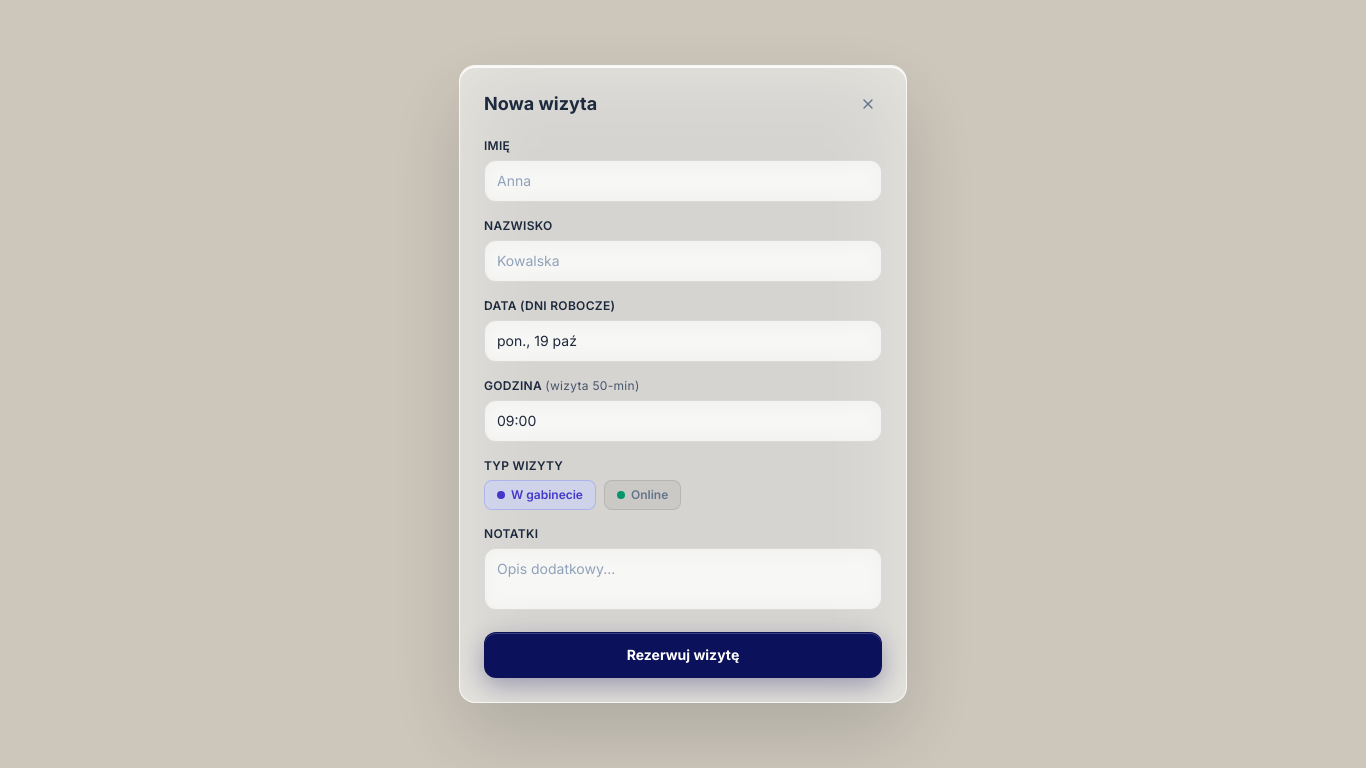
Scenario: AddTaskModal › name validation › requires a first name when only the last name is filled
In the field labelled "Nazwisko": (683, 261) [484,240,882,282], type "Kowalski"
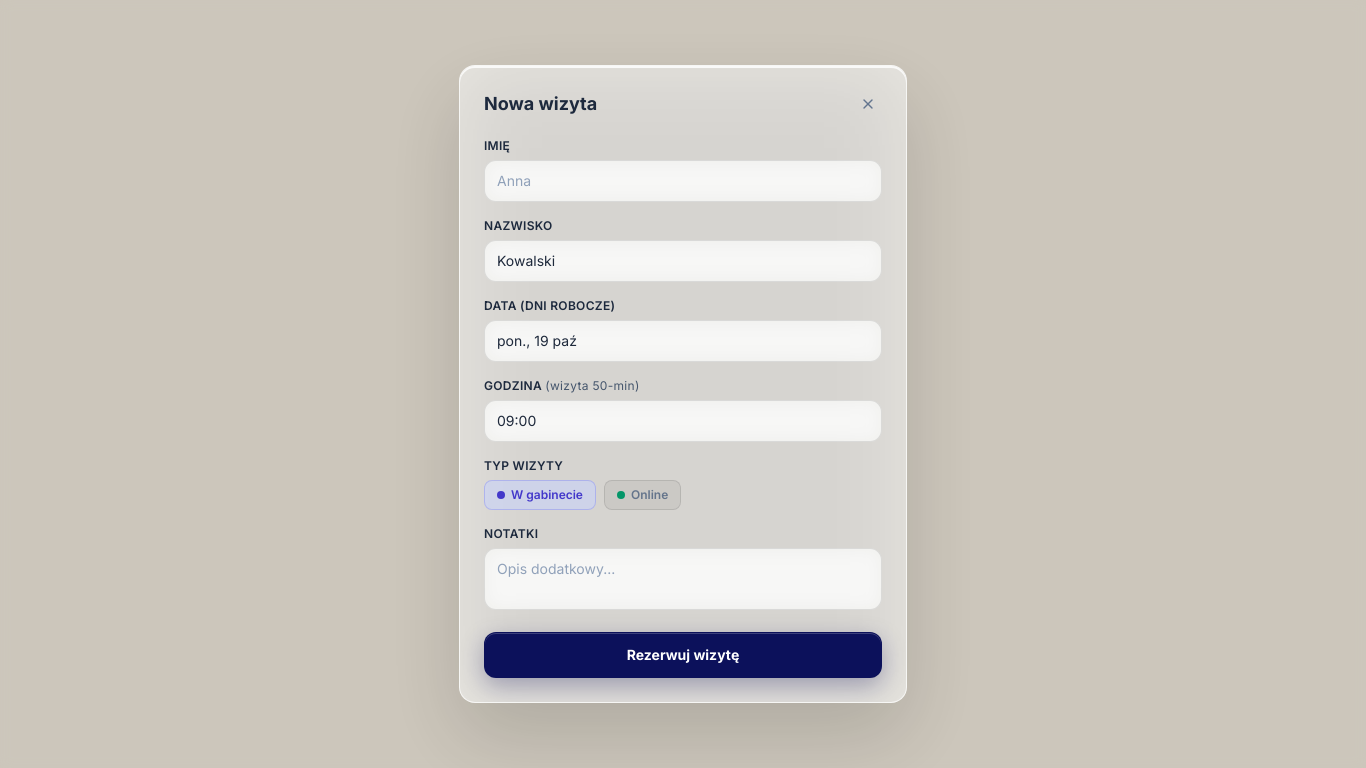
Click the button "Rezerwuj wizytę": (683, 655) [484,632,882,678]
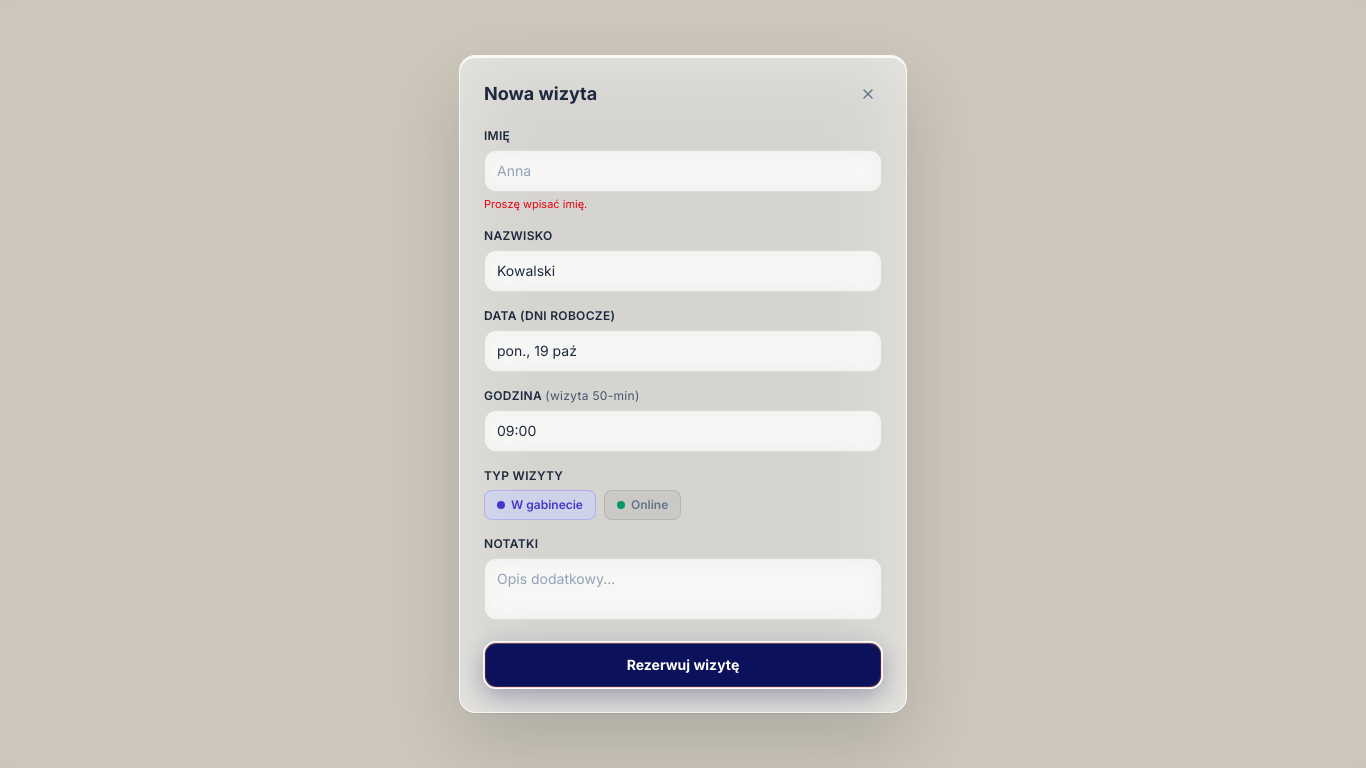
Now the text "Proszę wpisać imię." is shown, box [484,197,587,211]
